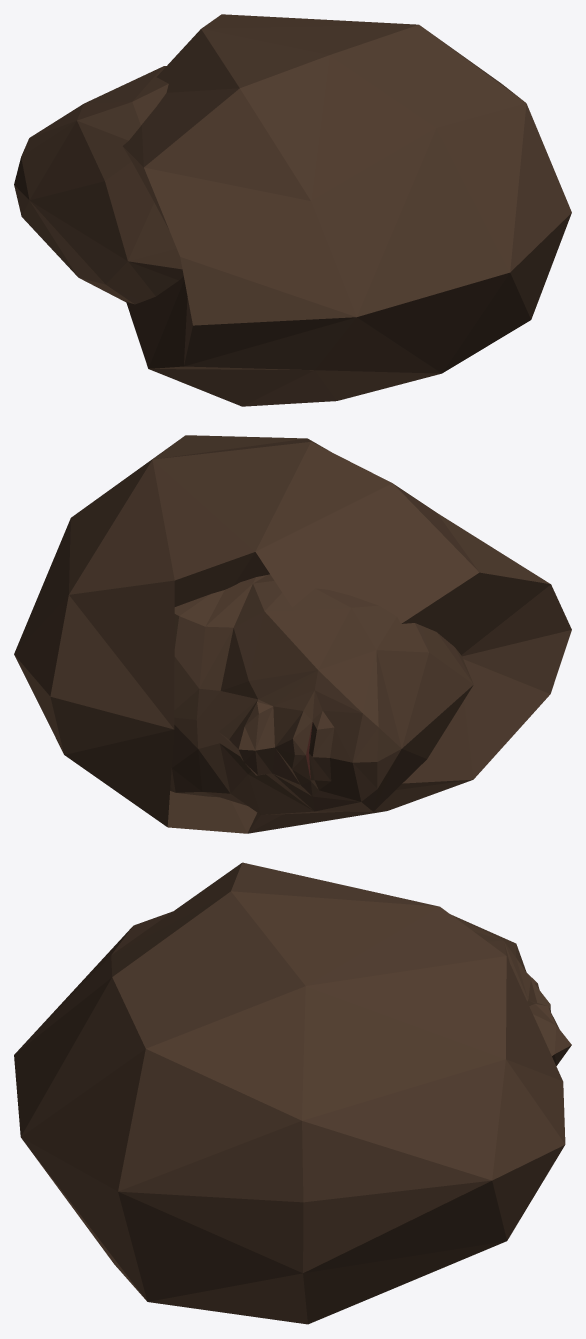
The model's file is HUM_HEAD_BABE1.OBJ.
3 renders of one model, top to bottom at view 1: azimuth 30°, elevation 25°; view 2: azimuth 150°, elevation 25°; view 3: azimuth 270°, elevation 25°, orthographic. The views are drawn at different scales.
Visible parts, largest first — view 1: HUM_HEAD_BABE1; view 2: HUM_HEAD_BABE1; view 3: HUM_HEAD_BABE1.
Part boxes in pixels (x1=…): HUM_HEAD_BABE1: x1=14, y1=14, x2=571, y2=406; HUM_HEAD_BABE1: x1=14, y1=435, x2=571, y2=833; HUM_HEAD_BABE1: x1=14, y1=862, x2=571, y2=1324.
Bounding box in the file's own units: 0.2766 × 0.2243 × 0.2842.
